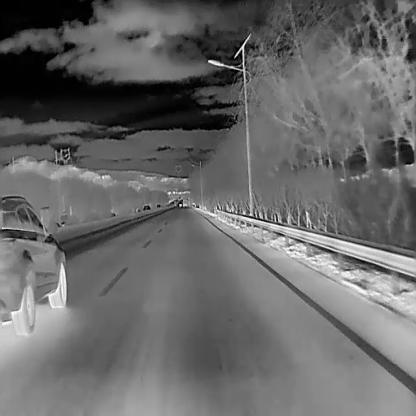bus: (182, 198, 188, 208)
car: (0, 193, 68, 338), (142, 204, 152, 211), (178, 203, 182, 208), (156, 203, 160, 208)
